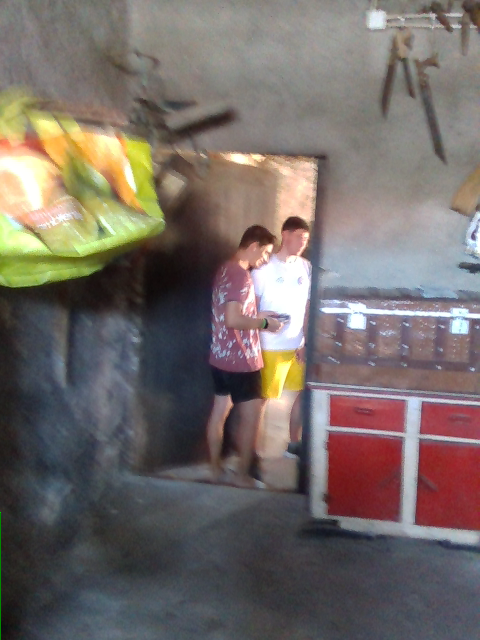semi: (130, 145, 326, 489)
